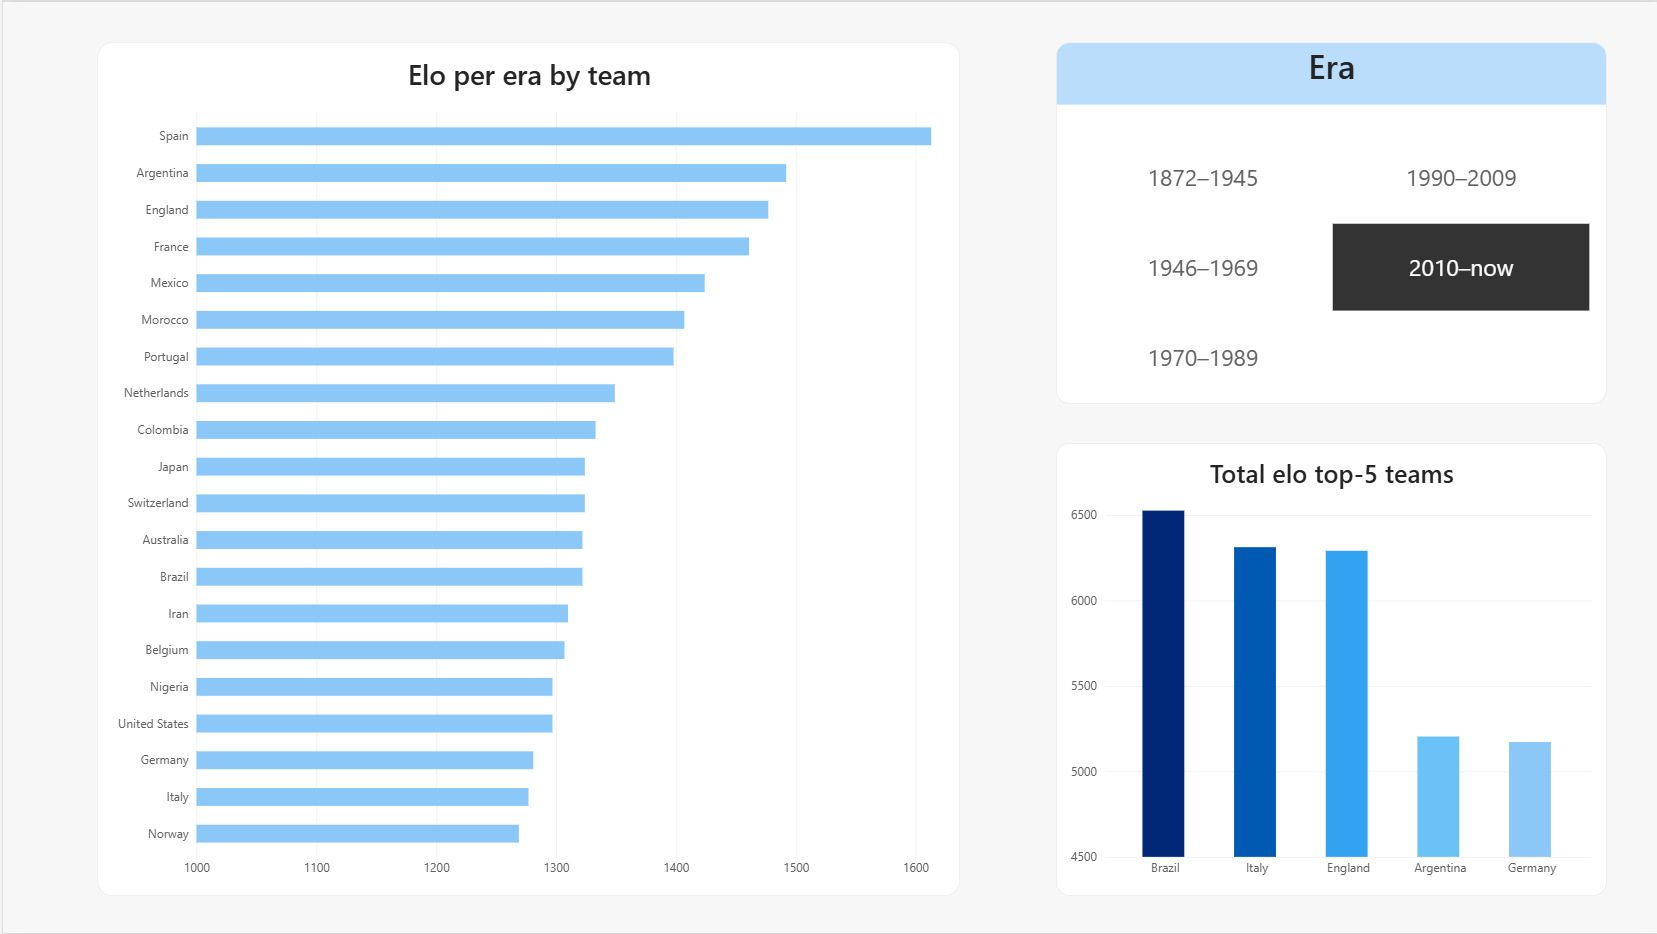

The dashboard page shown, as its layout file describes it:
{"tool":"powerbi","page":{"name":"Elo info","canvas":[1920,1080],"ordinal":1},"visuals":[{"type":"barChart","fields":{"Category":["elo_by_era.team"],"Y":["Sum(elo_by_era.points)"]},"box":[109.5,46.9,999.4,989],"z":0},{"type":"slicer","title":"Era","fields":{"Values":["elo_by_era.era"]},"box":[1220.1,46.9,637.9,418.9],"z":1},{"type":"columnChart","title":"Total elo top-5 teams","fields":{"Category":["elo_by_era.team"],"Y":["Sum(elo_by_era.points)"]},"box":[1220.1,511,637.9,524.9],"z":2}]}

Visuals, with their boxes in screenshot pixels (x1, y1, x2, y2), scaled from the page's 1920x1080 canvas onto the 1657x934 screenshot:
barChart - elo_by_era.team x Sum(elo_by_era.points): <bbox>95, 41, 957, 896</bbox>
"Era" slicer: <bbox>1053, 41, 1603, 403</bbox>
"Total elo top-5 teams" columnChart: <bbox>1053, 442, 1603, 896</bbox>
